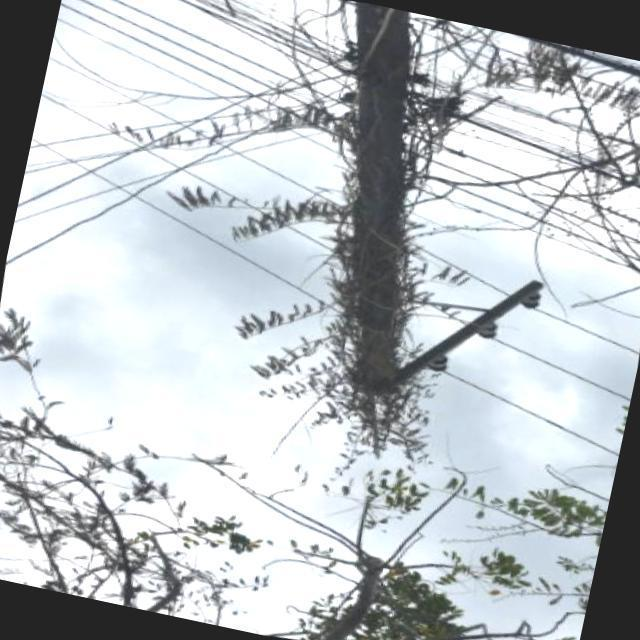critical vegetation: (226, 56, 490, 462)
